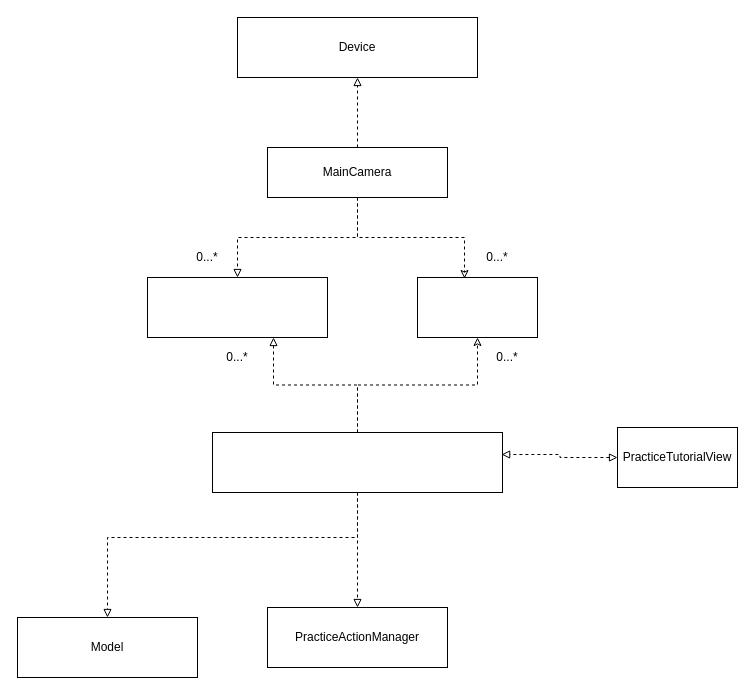
Some shapes in this 755 by 695 pixel diagram are drawn without their labels. Each missing label, with the centre of its shape:
BodyData: point 477,307
Image: point 237,307
PracticeTutorialViewModel: point 357,462
